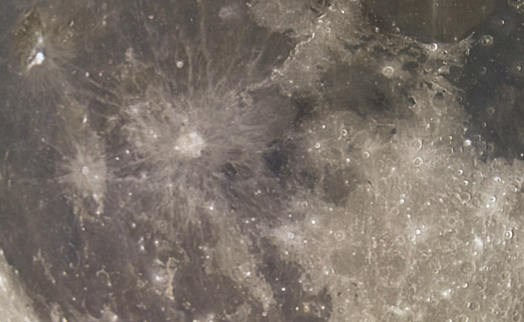crater: (108, 84, 268, 221), (42, 126, 129, 219), (23, 43, 57, 78), (208, 2, 240, 25), (371, 59, 401, 83), (398, 132, 425, 152), (465, 291, 483, 317), (456, 259, 479, 278), (499, 227, 519, 248), (327, 225, 347, 245), (170, 55, 191, 74), (333, 125, 354, 143), (358, 145, 375, 165), (422, 37, 440, 54), (392, 231, 407, 249), (485, 100, 500, 117), (388, 203, 402, 220), (476, 62, 488, 79)
